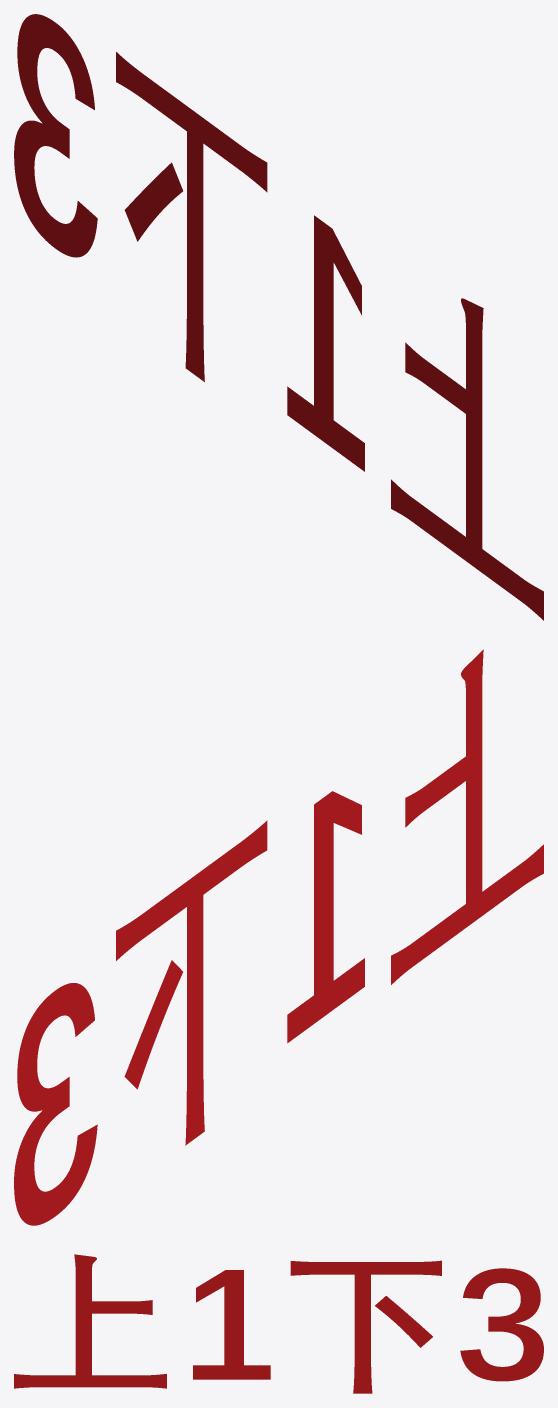
3 renders of one model, top to bottom at view 1: azimuth 30°, elevation 25°; view 2: azimuth 150°, elevation 25°; view 3: azimuth 270°, elevation 25°, orthographic. The views are drawn at different scales.
Parts seen in each view (by area): view 1: Text; view 2: Text; view 3: Text.
Boxes of the visible parts, x1,y1,x2,y2 form: Text: [14, 14, 543, 620]; Text: [14, 649, 543, 1225]; Text: [14, 1254, 543, 1393].
Bounding box in the file's own units: 0.0565 × 71.64 × 247.
